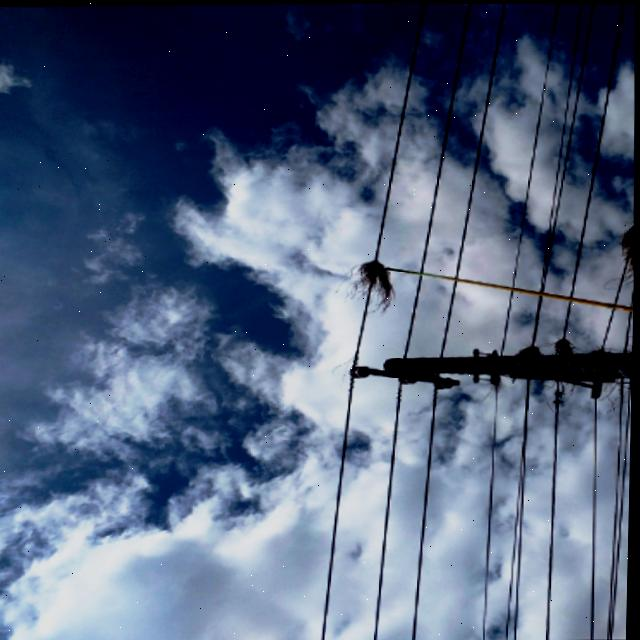obstruction: (342, 252, 400, 314), (520, 335, 577, 354)
poles: (349, 335, 631, 395)
wires: (422, 3, 632, 297), (479, 380, 630, 636), (371, 385, 447, 637), (319, 306, 373, 640), (399, 275, 633, 351), (373, 2, 433, 260)
